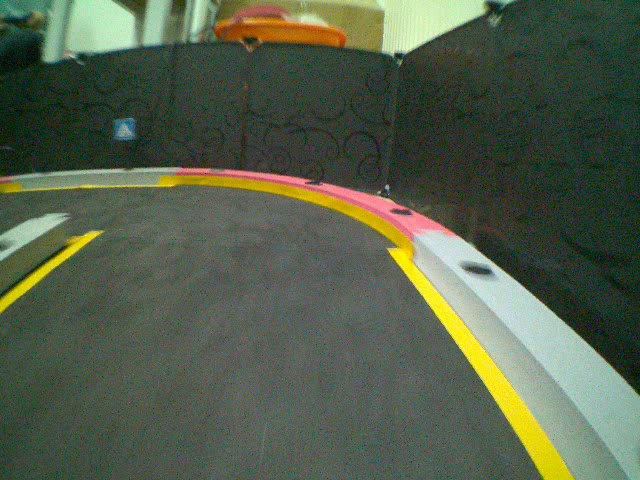crossing: (113, 119, 135, 140)
